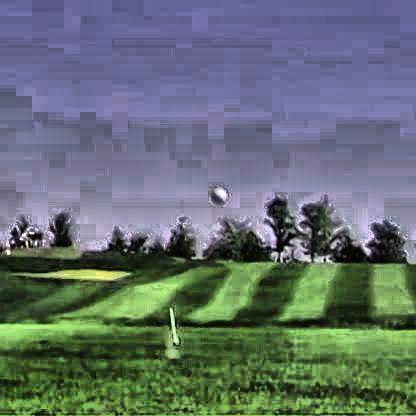golfball: (207, 183, 225, 203)
